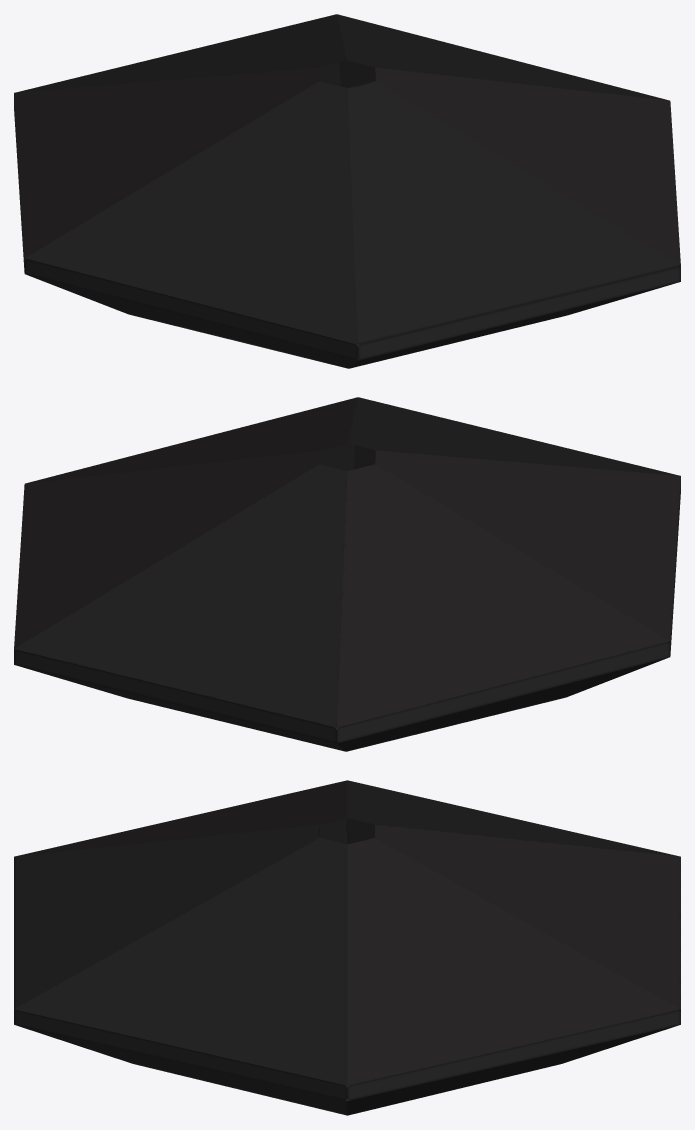
Rendered from arena.obj.
3 renders of one model, top to bottom at view 1: azimuth 30°, elevation 25°; view 2: azimuth 150°, elevation 25°; view 3: azimuth 270°, elevation 25°, orthographic. The views are drawn at different scales.
Visible parts, largest first — view 1: circle; view 2: circle; view 3: circle.
Part boxes in pixels (x1,y1,x2,y2): circle: (14, 14, 680, 368); circle: (14, 397, 680, 751); circle: (14, 780, 680, 1115).
Bounding box in the file's own units: 6.78 × 1.88 × 6.25.
Materials: 1 (1 with a texture image).
